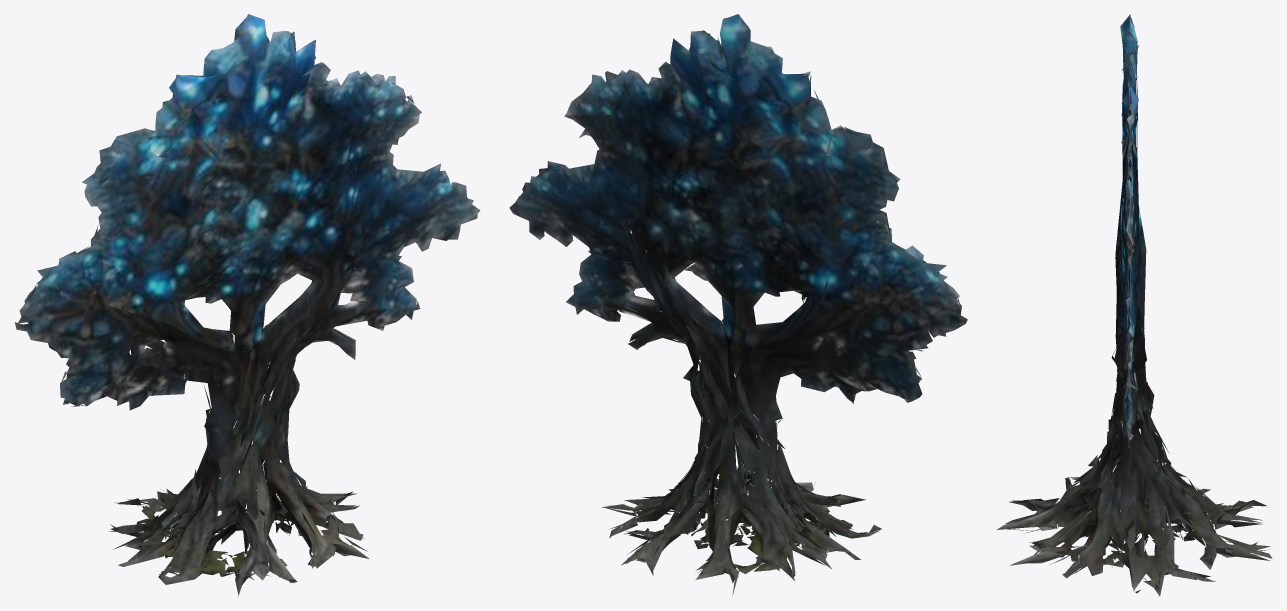
Rendered from arvore_cristal_mana_broto.glb.
The picture shows the model from 3 angles, left to right: view 1: azimuth 30°, elevation 25°; view 2: azimuth 150°, elevation 25°; view 3: azimuth 270°, elevation 25°; orthographic projection.
Parts seen in each view (by area): view 1: geometry_0; view 2: geometry_0; view 3: geometry_0.
Boxes of the visible parts, x1,y1,x2,y2 form: geometry_0: [15, 14, 480, 595]; geometry_0: [509, 14, 967, 594]; geometry_0: [997, 14, 1272, 596].
Bounding box in the file's own units: 0.9268 × 1 × 0.4746.
Materials: 1 (1 with a texture image).
